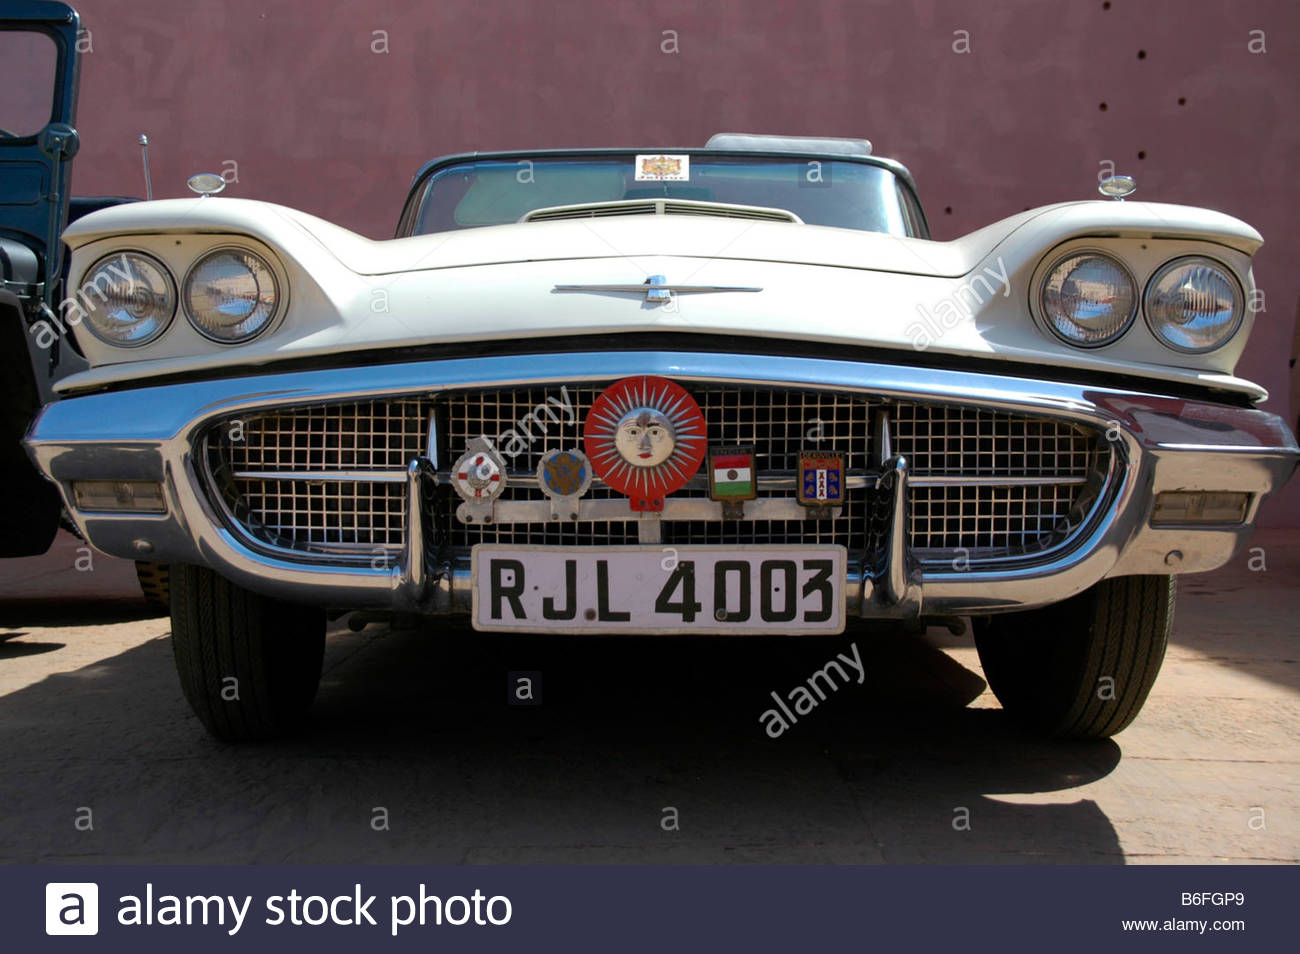number_plate: (469, 541, 852, 640)
